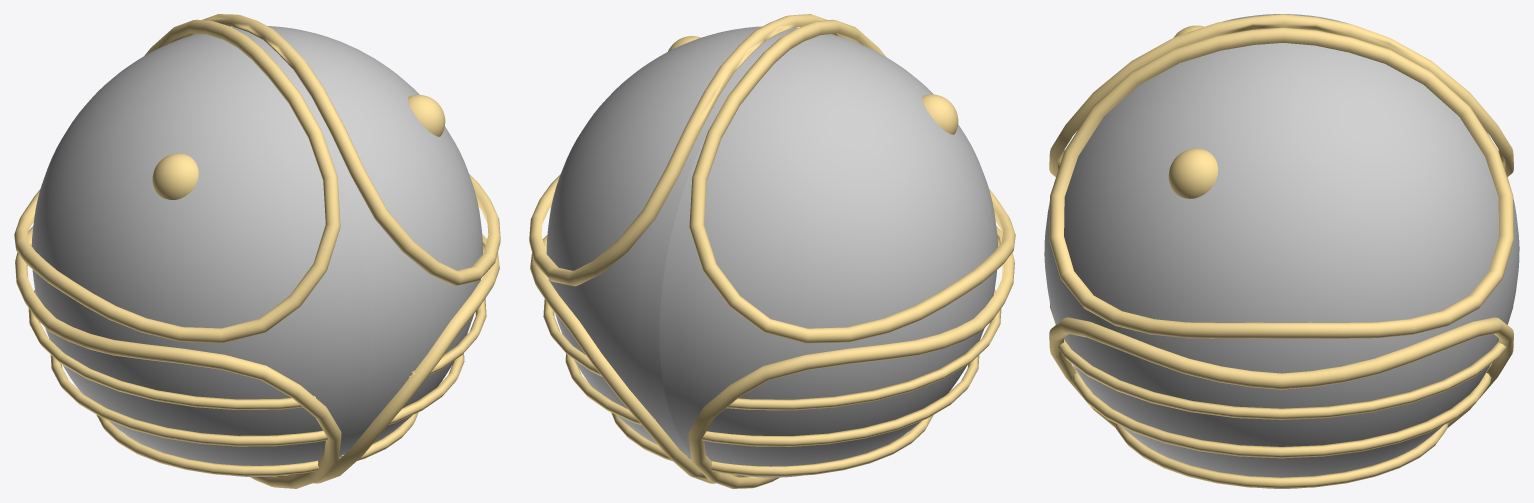
Rendered from snitchHarry.obj.
3 renders of one model, left to right at view 1: azimuth 30°, elevation 25°; view 2: azimuth 150°, elevation 25°; view 3: azimuth 270°, elevation 25°, orthographic. The views are drawn at different scales.
Visible parts, largest first — view 1: polySurface923; view 2: polySurface923; view 3: polySurface923.
Boxes of the visible parts, x1,y1,x2,y2 form: polySurface923: (14,14,500,488); polySurface923: (529,14,1015,488); polySurface923: (1044,14,1519,488).
Bounding box in the file's own units: 1.73 × 1.71 × 1.6.
